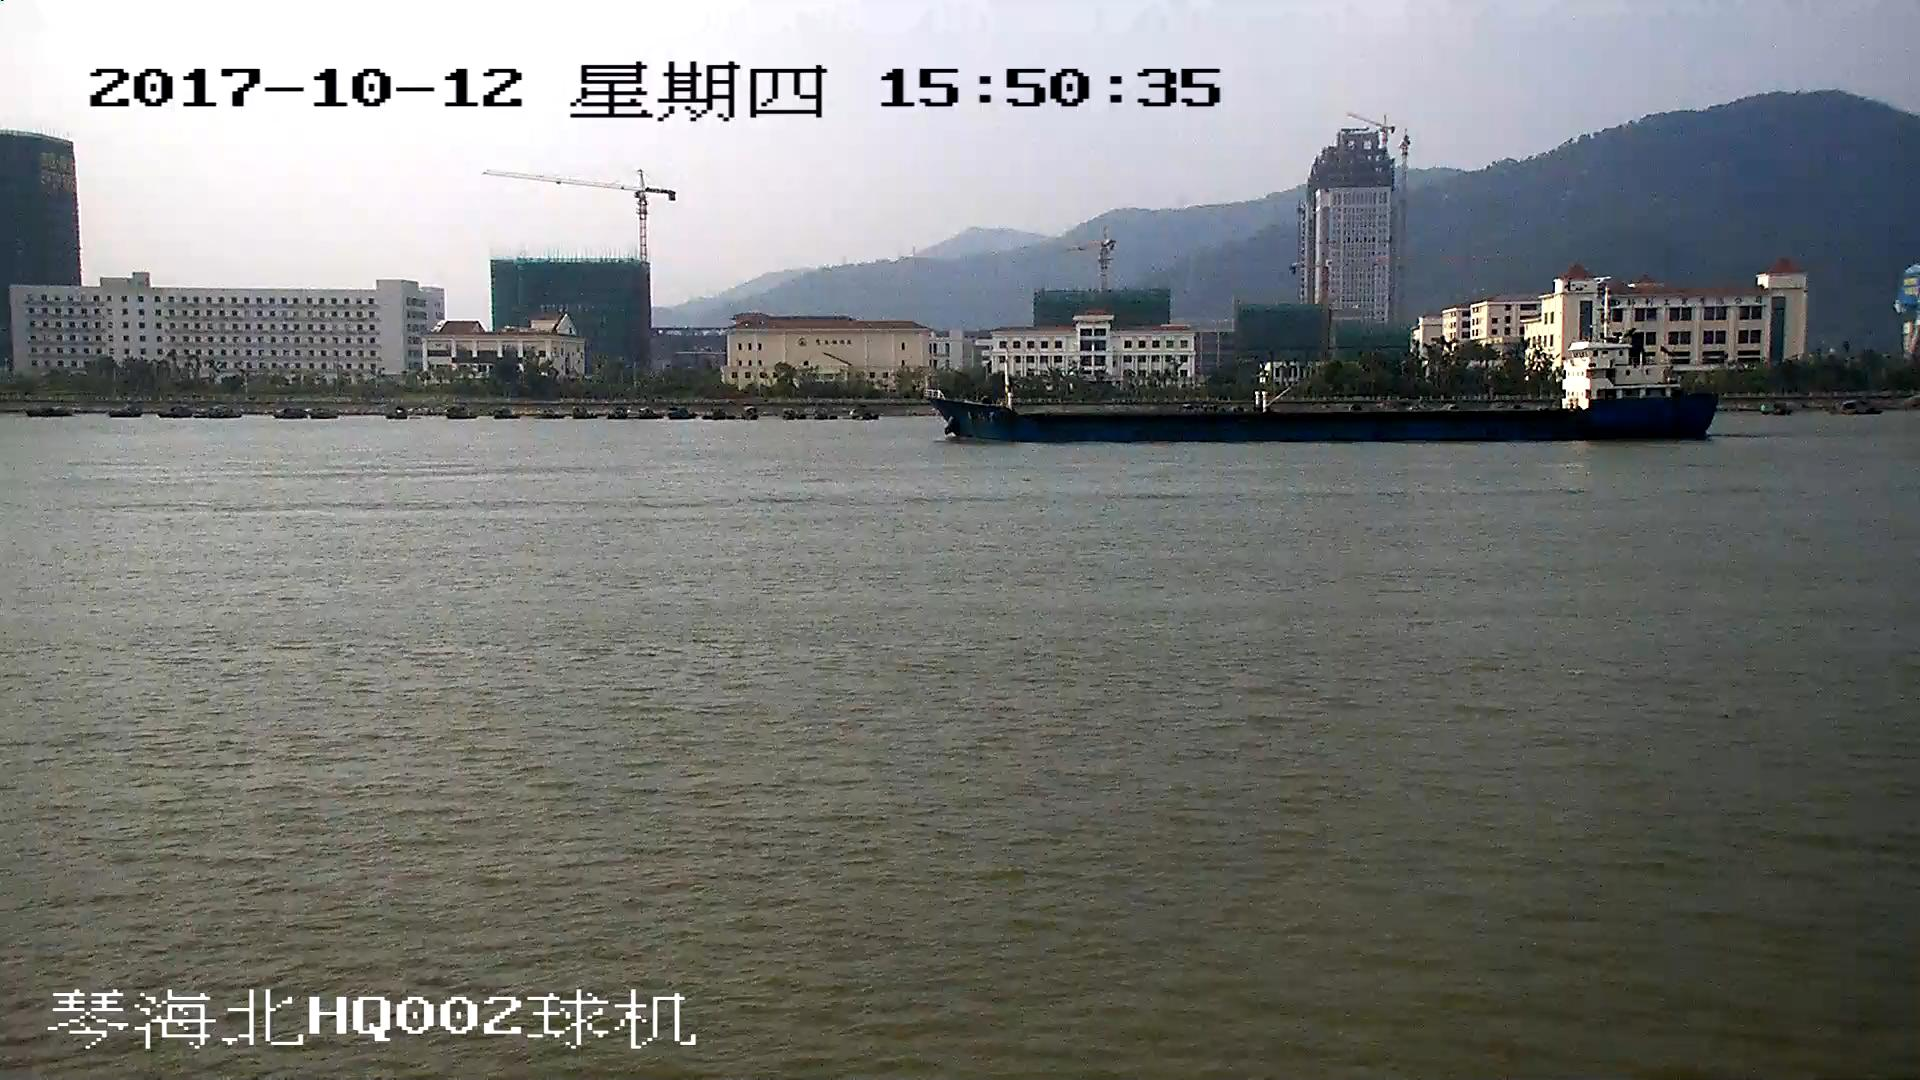general cargo ship: (930, 299, 1714, 439)
